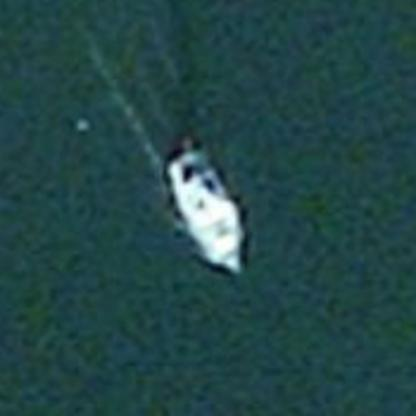ship: (151, 128, 265, 286)
